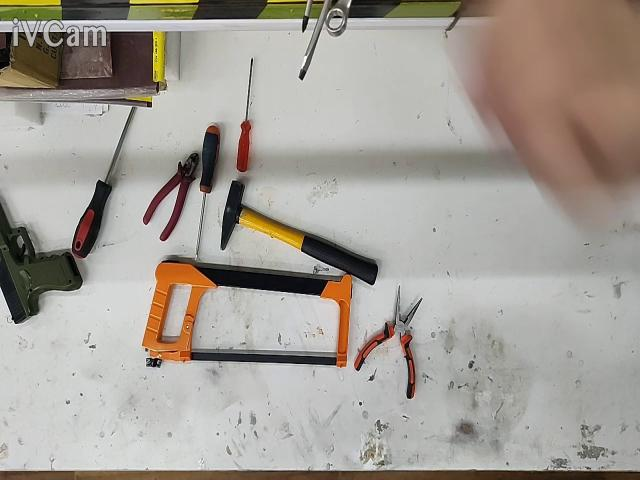Backsaw: (142, 260, 352, 367)
Cutting pliers: (144, 153, 199, 241)
Gun: (0, 203, 82, 323)
Hammer: (222, 182, 378, 284)
Needle-nose pliers: (354, 285, 422, 398)
Screwdriver: (72, 106, 136, 258), (195, 125, 220, 259), (237, 58, 253, 173)
Wrench: (325, 0, 351, 37)
